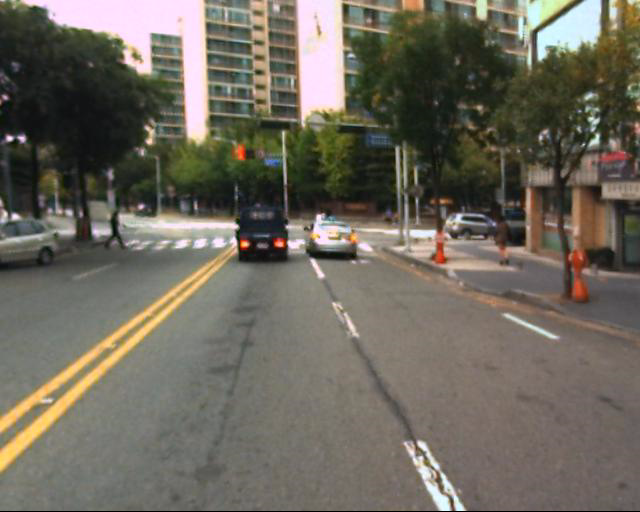person: (491, 207, 520, 274), (104, 207, 128, 254), (312, 201, 333, 242)
